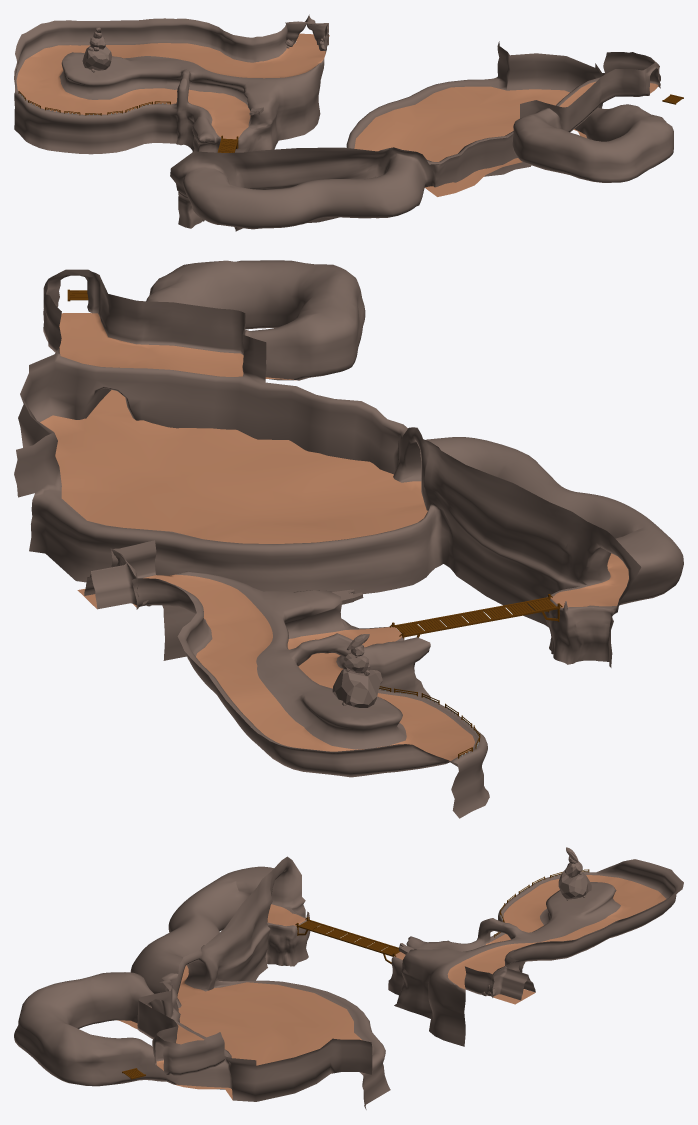
File: canyon test.fbx
3 views of the same model, one above another, from view 1: azimuth 30°, elevation 25°; view 2: azimuth 150°, elevation 25°; view 3: azimuth 270°, elevation 25° (orthographic). The views are drawn at different scales.
Visible parts, largest first — view 1: way_12x10_0, canyon_part1, pize_tower1; view 2: way_12x10_0, canyon_part1, pize_tower1; view 3: way_12x10_0, canyon_part1, pize_tower1.
Boxes of the visible parts, x1,y1,x2,y2 form: way_12x10_0: (170,41,673,231); canyon_part1: (14,14,329,154); pize_tower1: (82,27,112,72); way_12x10_0: (14,260,683,667); canyon_part1: (77,540,489,818); pize_tower1: (332,634,382,707); way_12x10_0: (14,856,390,1109); canyon_part1: (388,859,683,1046); pize_tower1: (558,847,591,900).
Size of the model in its own units: 174 by 40.54 by 198.
